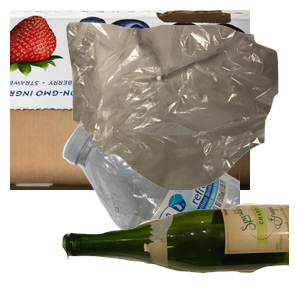cardboard: (10, 10, 250, 190)
glass: (60, 201, 300, 300)
plastic: (60, 120, 300, 300)
trash: (64, 20, 300, 200)
